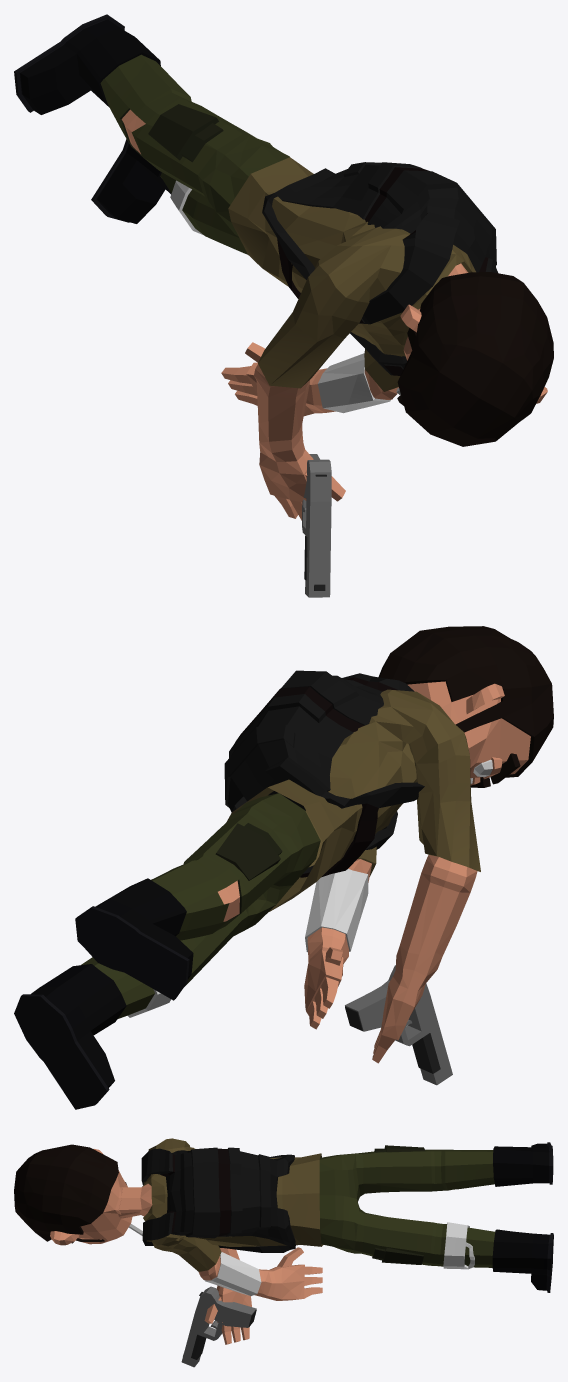
The model's file is frame_0028.obj.
3 views of the same model, one above another, from view 1: azimuth 30°, elevation 25°; view 2: azimuth 150°, elevation 25°; view 3: azimuth 270°, elevation 25° (orthographic). The views are drawn at different scales.
Parts seen in each view (by area): view 1: Body, Gun; view 2: Body, Gun; view 3: Body, Gun.
Boxes of the visible parts, <box> form: Body: <box>14,14,553,520</box>; Gun: <box>302,454,331,597</box>; Body: <box>14,626,553,1109</box>; Gun: <box>345,965,452,1085</box>; Body: <box>14,1138,553,1344</box>; Gun: <box>181,1286,256,1367</box>.
Bounding box in the file's own units: 1.3 × 2.12 × 4.15.
